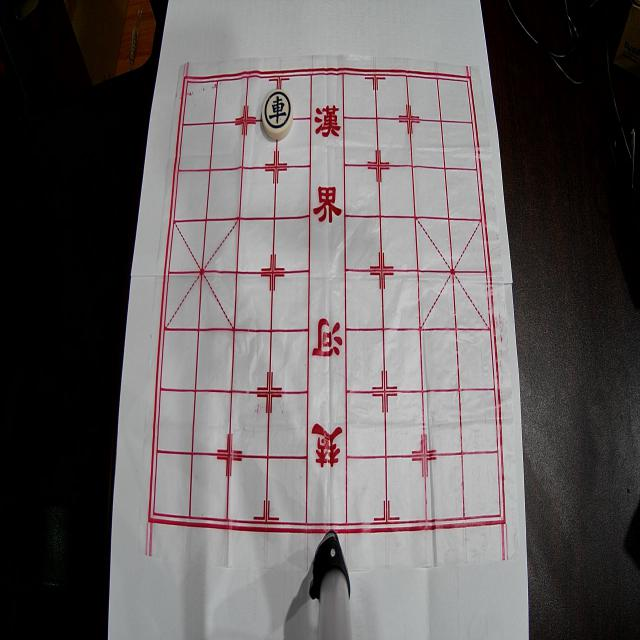black-chariot: (262, 89, 293, 139)
